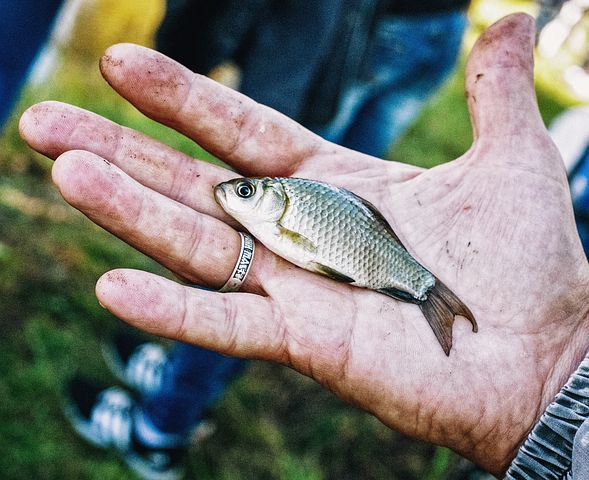palmhand: (29, 65, 581, 439)
